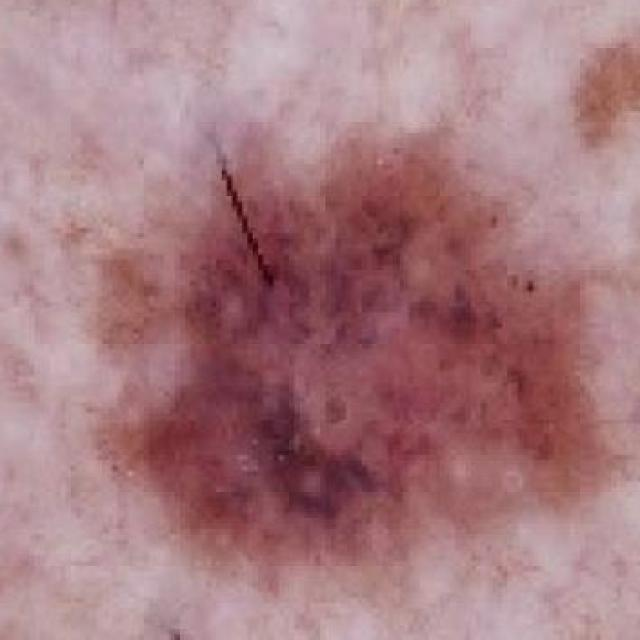AKIEC: (102, 94, 640, 640)
